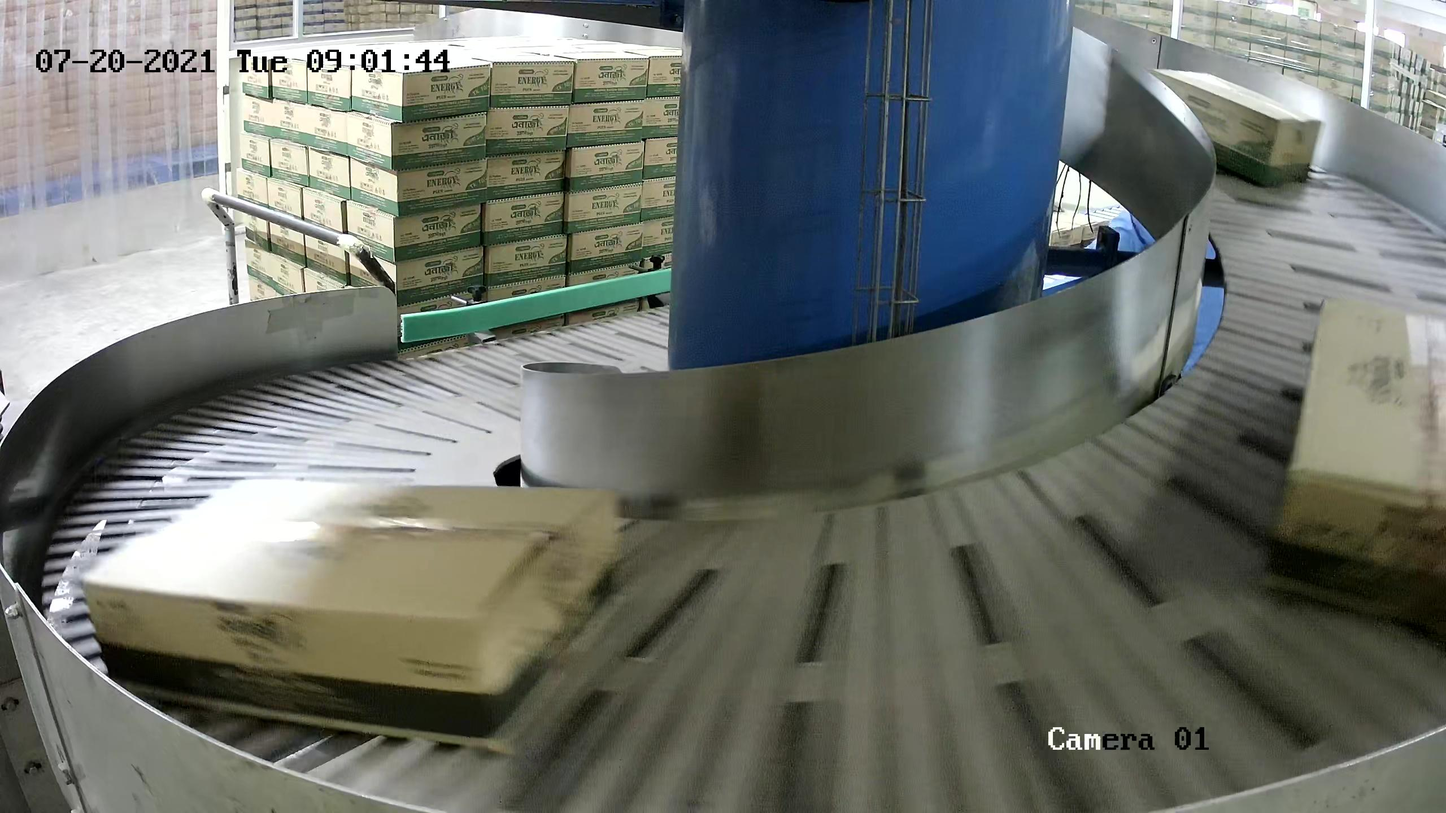Box: (79, 475, 629, 756), (1258, 298, 1446, 636), (1135, 67, 1324, 190)
